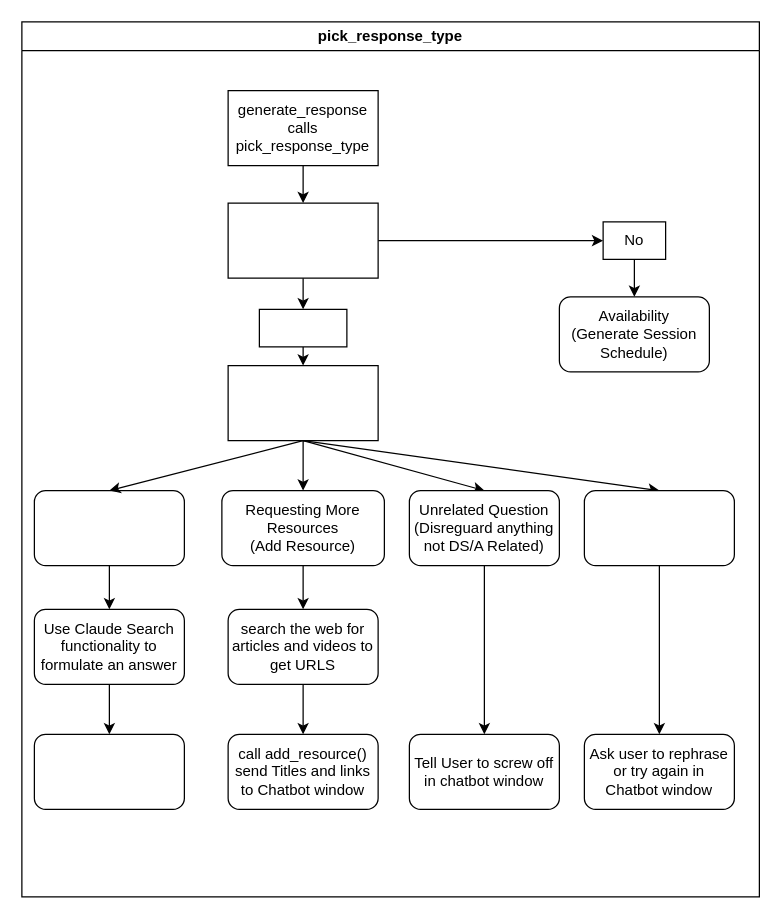
The diagram is 781 pixels wide and 919 high, and some of its shapes have lost their labels. Here are the shapes that lost their labels. From the top down, the centre of each, then its label:
(x=302, y=240): Do We Have An Active Schedule
(x=302, y=327): Yes
(x=302, y=402): Ask Claude What type of request is it
(x=108, y=527): Question related to current task (Search the web)
(x=658, y=527): Unsure How to clasify
(x=108, y=771): Return Answer To Chatbot window
